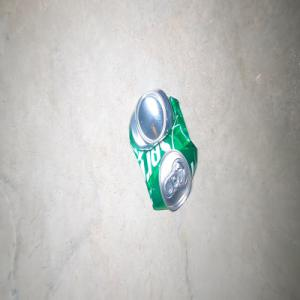SodaCan: (128, 88, 197, 211)
